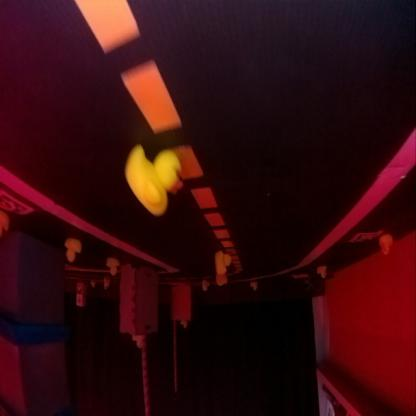Duckie: (124, 146, 182, 216), (64, 239, 80, 263), (214, 253, 231, 275), (379, 235, 392, 256), (107, 259, 119, 277)
